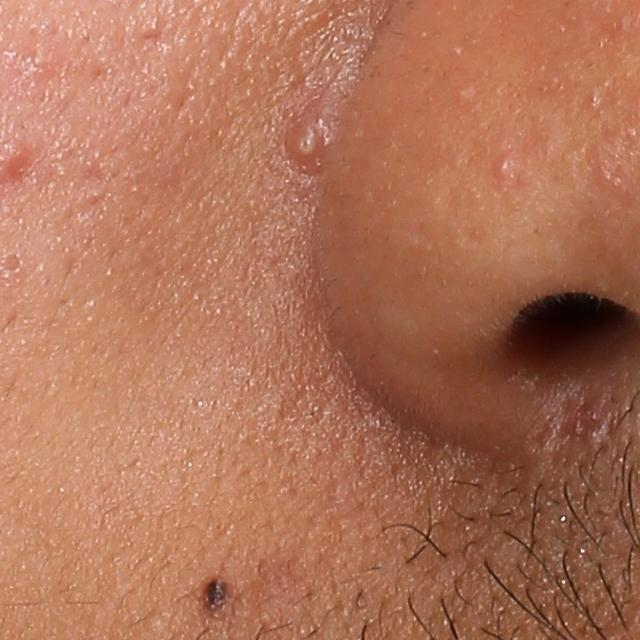nevus: (195, 571, 232, 625)
pustule: (291, 117, 324, 165)
